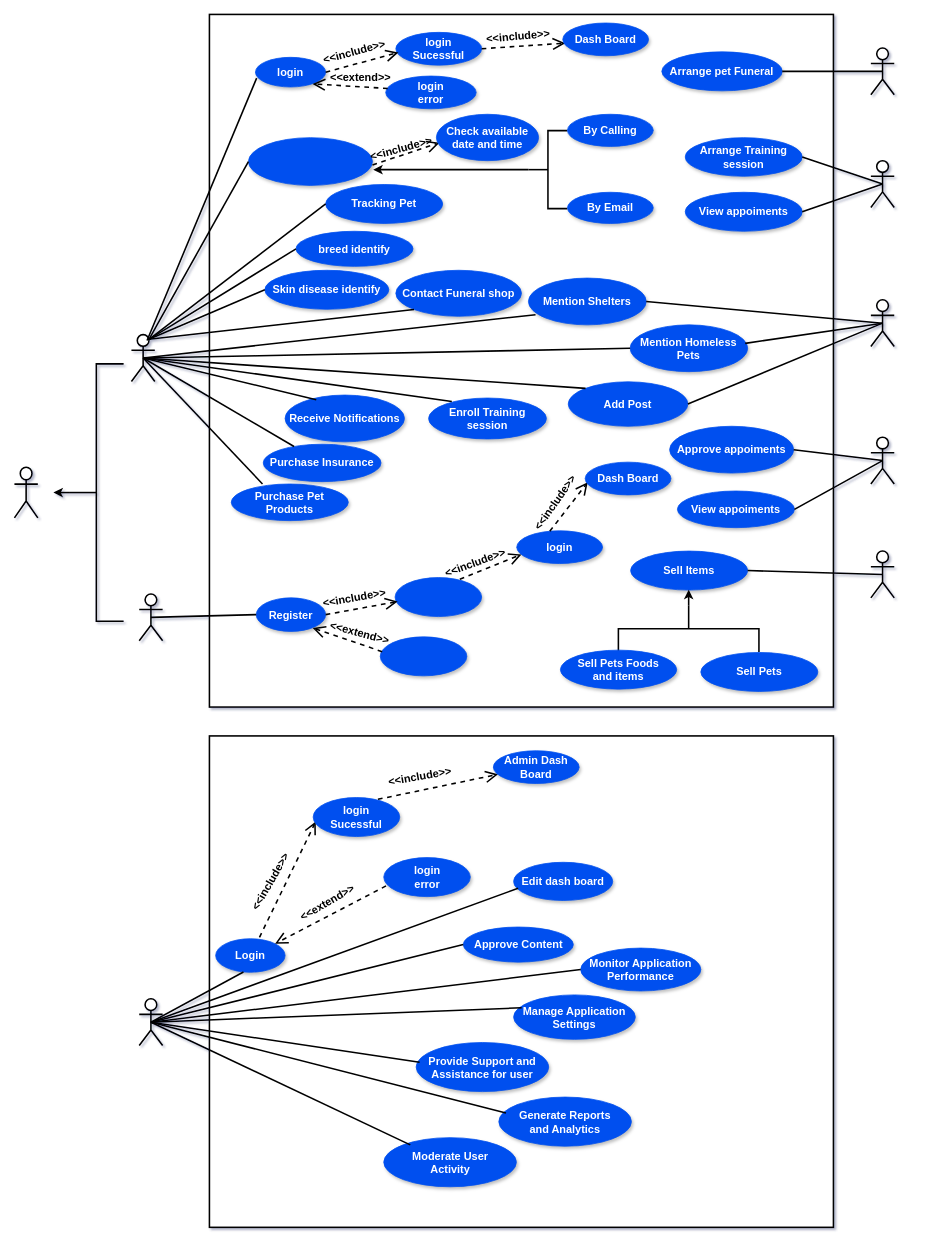
Image size: 934x1246. Some labels were removed from this diagram. The shapes that lost their labels are listed below. From the top down, each one's centre as x and y in pixels, then its label:
At [882,71]: "Funeral shop".
At [311,162]: "schedule appoiment with Vet".
At [882,184]: "Trainer".
At [882,323]: "Friend".
At [142,357]: "Registerd User".
At [882,460]: "Vet".
At [25,492]: "User".
At [882,574]: "Pet Store".
At [150,617]: "Unregistered User".
At [438,598]: "register Sucessful".
At [424,657]: "register error".
At [150,1022]: "Admin".
